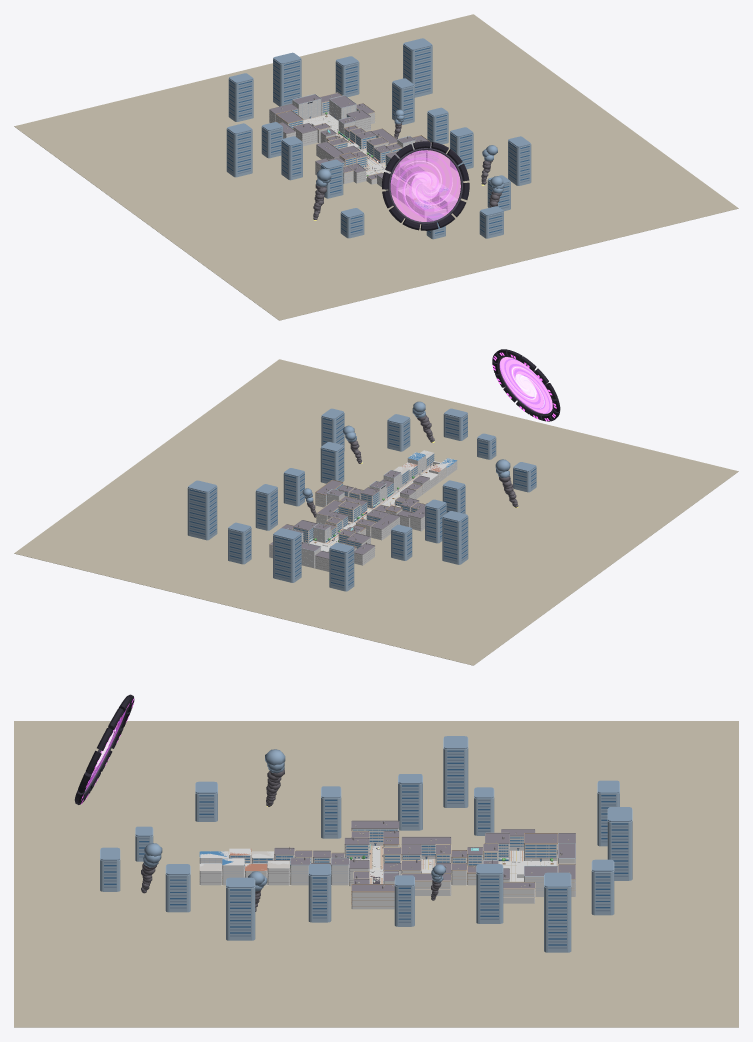
File: m1_streets.glb
3 renders of one model, top to bottom at view 1: azimuth 30°, elevation 25°; view 2: azimuth 150°, elevation 25°; view 3: azimuth 270°, elevation 25°, orthographic. The views are drawn at different scales.
Parts seen in each view (by area): view 1: ground_pave_d_fine, far_far_far, GATE_a_vortex, far_far_d_fine, far_glass_d_fine, far_far_d_far, GATE_a_frame, junction_roof_detail, plaza_roof_detail, far_far_d, GATE_a_swirl, far_smoke_d (+2 smaller); view 2: ground_pave_d_fine, far_far_far, far_far_d_fine, far_glass_d_fine, far_far_d_far, junction_roof_detail, GATE_a_vortex, GATE_a_frame, far_smoke_d, far_far_d, plaza_roof_detail; view 3: ground_pave_d_fine, far_far_far, far_far_d_far, far_far_d_fine, far_glass_d_fine, junction_roof_detail, plaza_roof_detail, GATE_a_frame, far_far_d, far_smoke_d, south_roof_detail, north_roof_detail (+2 smaller).
Boxes of the visible parts, x1,y1,x2,y2 form: ground_pave_d_fine: (14, 14, 738, 320); far_far_far: (226, 44, 531, 239); GATE_a_vortex: (390, 150, 460, 221); far_far_d_fine: (227, 48, 529, 235); far_glass_d_fine: (227, 46, 529, 233); far_far_d_far: (227, 38, 530, 220); GATE_a_frame: (382, 141, 469, 230); junction_roof_detail: (316, 129, 431, 172); plaza_roof_detail: (270, 93, 373, 133); far_far_d: (316, 109, 504, 193); GATE_a_swirl: (391, 151, 457, 217); far_smoke_d: (313, 123, 501, 219); ground_pave_d_fine: (14, 359, 738, 665); far_far_far: (187, 412, 536, 591); far_far_d_fine: (189, 415, 536, 588); far_glass_d_fine: (189, 414, 536, 585); far_far_d_far: (188, 408, 536, 552); junction_roof_detail: (316, 480, 425, 528); GATE_a_vortex: (499, 357, 552, 413); GATE_a_frame: (492, 349, 560, 421); far_smoke_d: (307, 415, 518, 517); far_far_d: (302, 401, 510, 502); plaza_roof_detail: (270, 520, 373, 558); ground_pave_d_fine: (14, 721, 738, 1027); far_far_far: (100, 738, 632, 952); far_far_d_far: (100, 736, 631, 887); far_far_d_fine: (104, 753, 628, 948); far_glass_d_fine: (104, 750, 628, 945); junction_roof_detail: (345, 821, 450, 891); plaza_roof_detail: (485, 830, 575, 888); GATE_a_frame: (74, 694, 134, 804); far_far_d: (143, 749, 445, 891); far_smoke_d: (141, 769, 441, 911); south_roof_detail: (274, 848, 369, 868); north_roof_detail: (436, 844, 498, 872).
Size of the model in its own units: 640 by 144 by 640.
